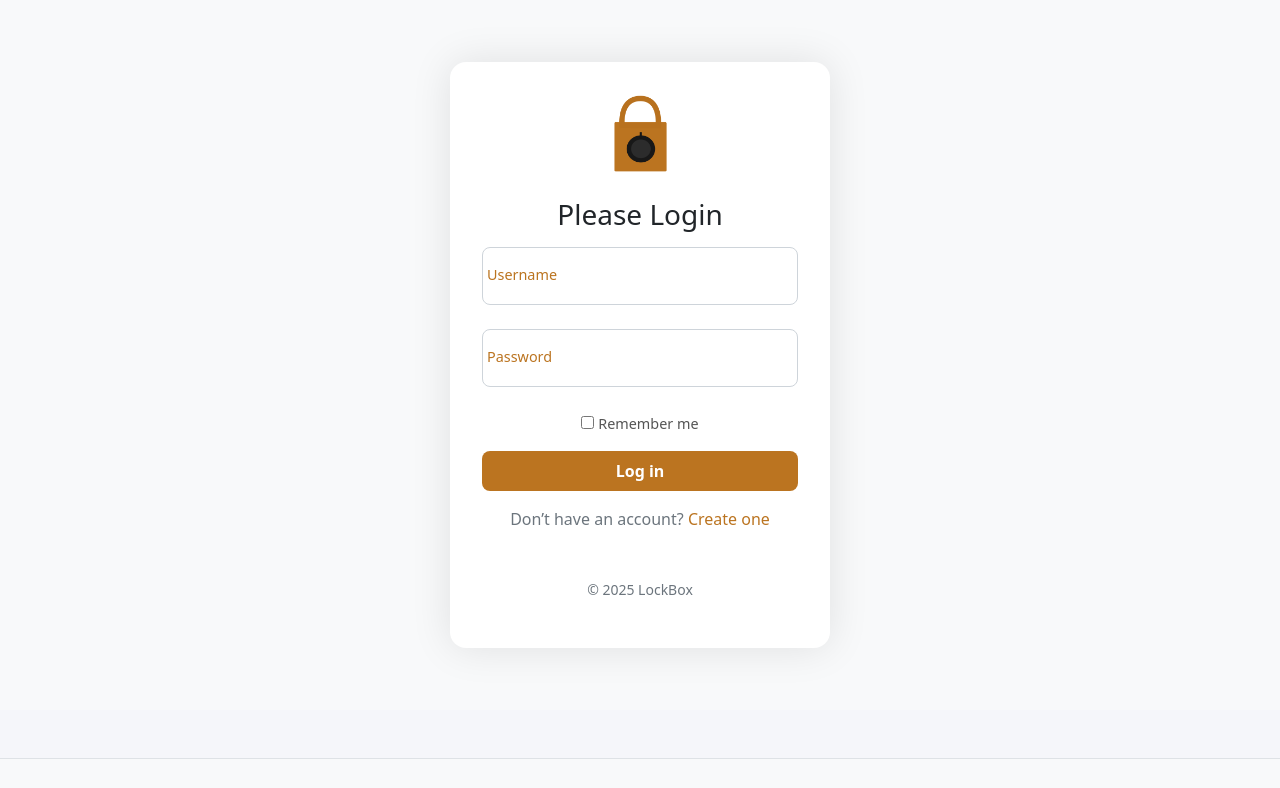
Test: Login Page Tests › should show error if API returns invalid credentials
In the field with id "floatingUsername": [640, 276] box [482,247,798,305], type "wronguser"
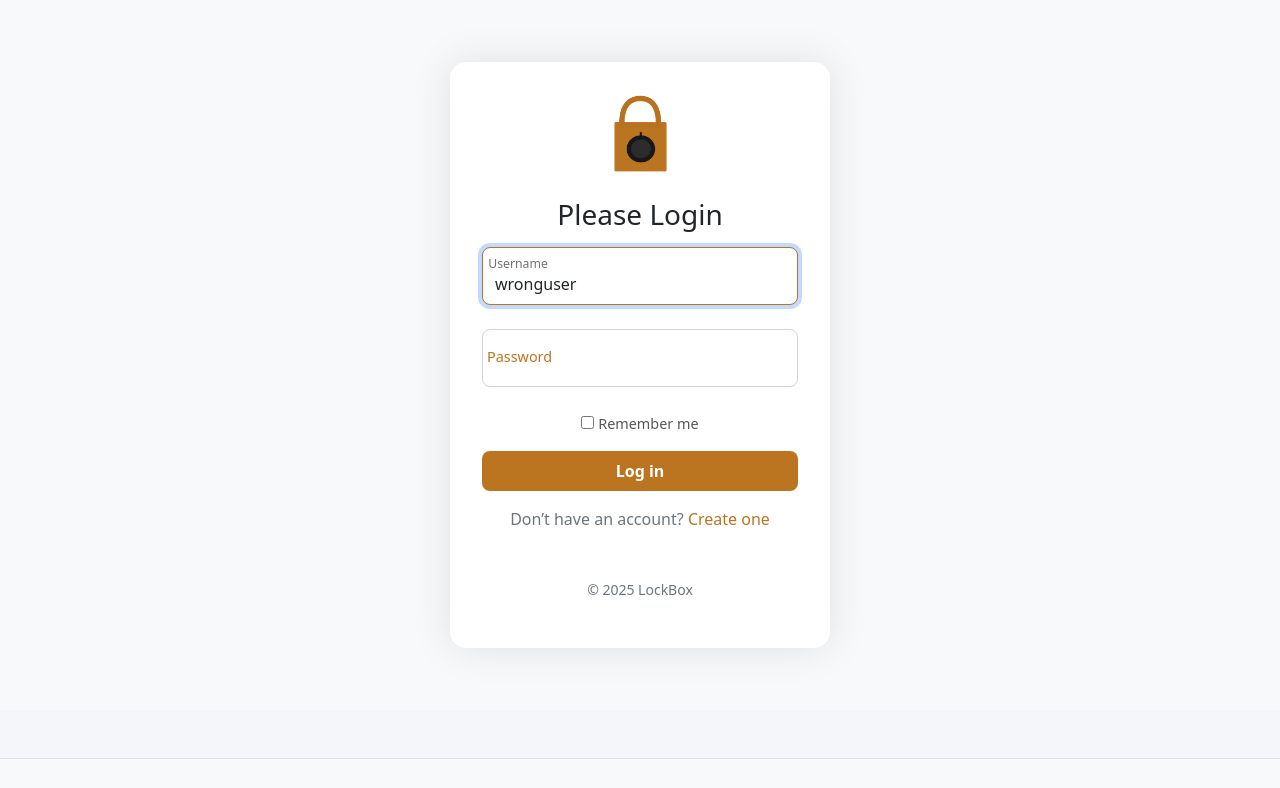
In the password field with id "floatingPassword": [640, 358] box [482,329,798,387], type "wrongpass123"
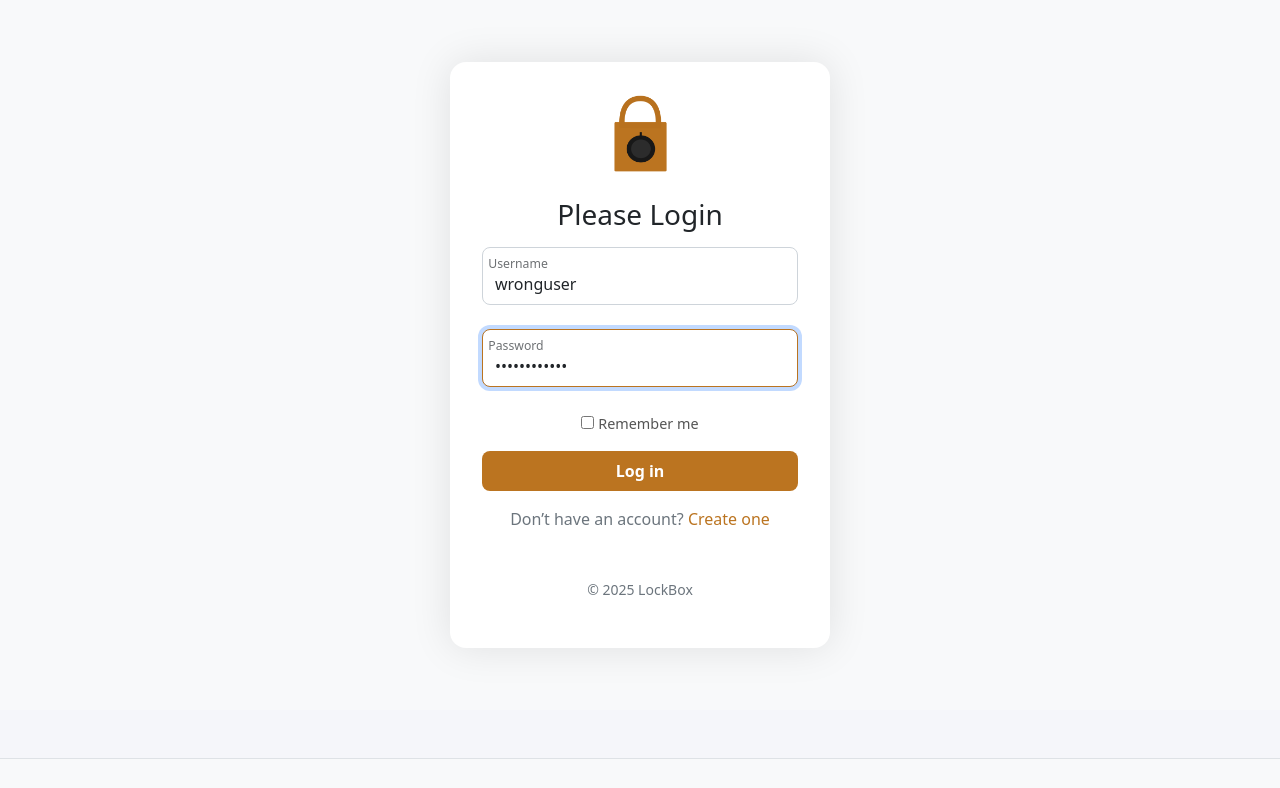
Click the submit button: [640, 471] box [482,451,798,491]
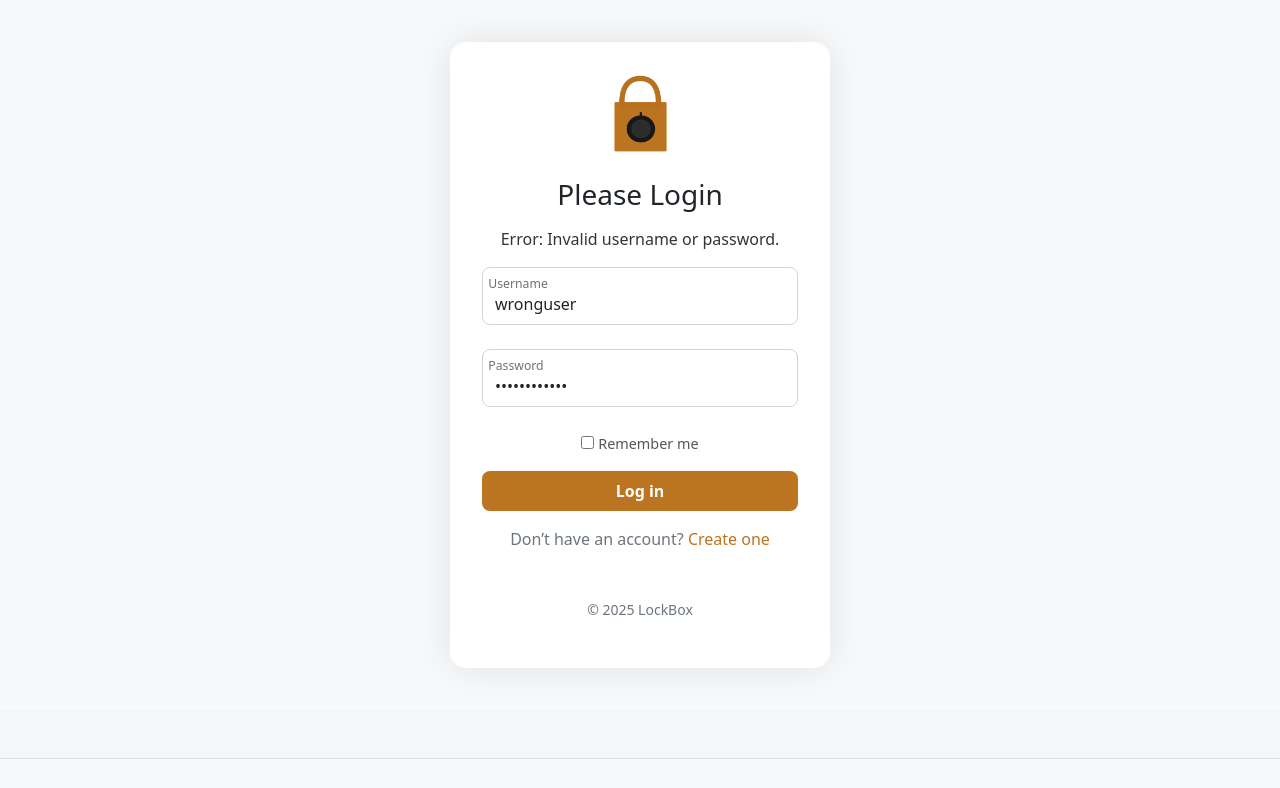
Expected: the text "Error: Invalid username or password." is shown, [482,227,798,251]
